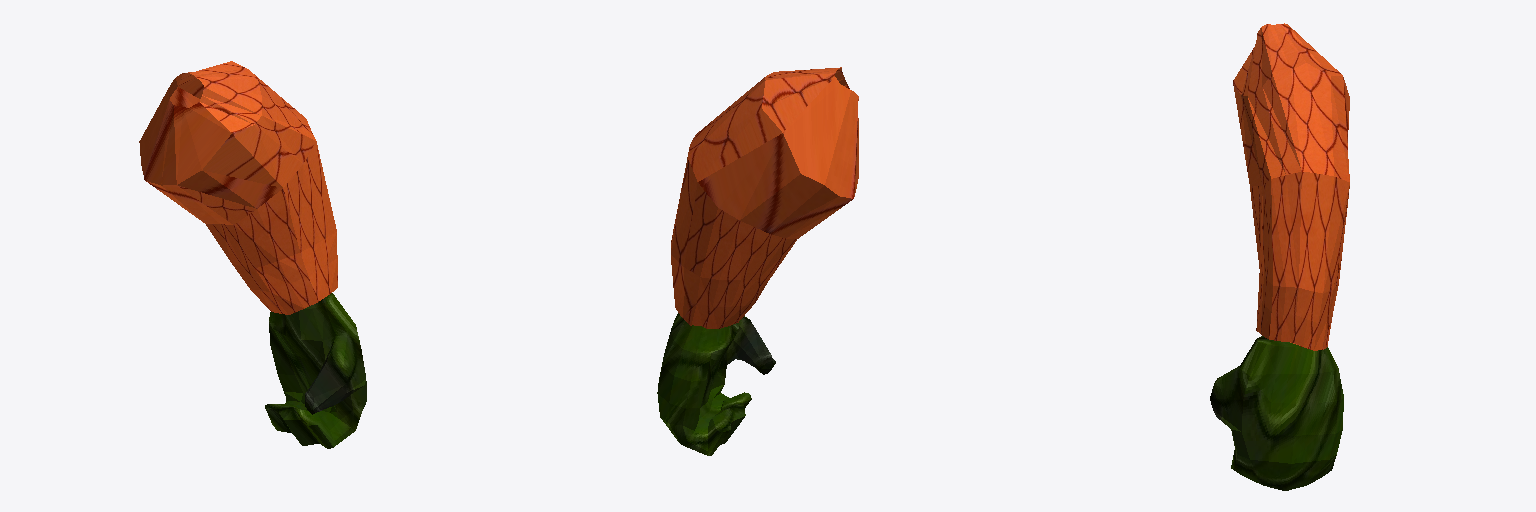
3 views of the same model, side by side, from view 1: azimuth 30°, elevation 25°; view 2: azimuth 150°, elevation 25°; view 3: azimuth 270°, elevation 25° (orthographic).
Parts seen in each view (by area): view 1: brazoizq; view 2: brazoizq; view 3: brazoizq.
Boxes of the visible parts, box(x1,y1,x2,y2) form: brazoizq: box(139, 61, 366, 448); brazoizq: box(657, 67, 858, 455); brazoizq: box(1210, 23, 1349, 490).
Size of the model in its own units: 1.33 by 2.56 by 0.8161.
Materials: 2 (2 with a texture image).